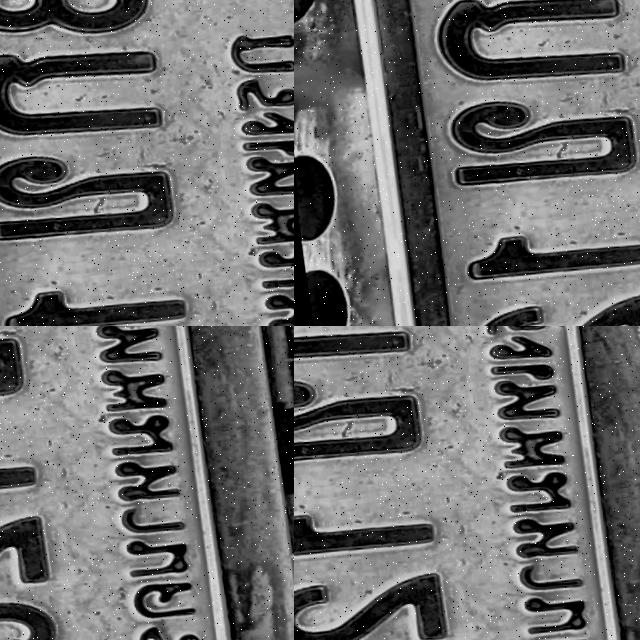license-plate: (294, 326, 640, 640), (294, 0, 338, 44)
